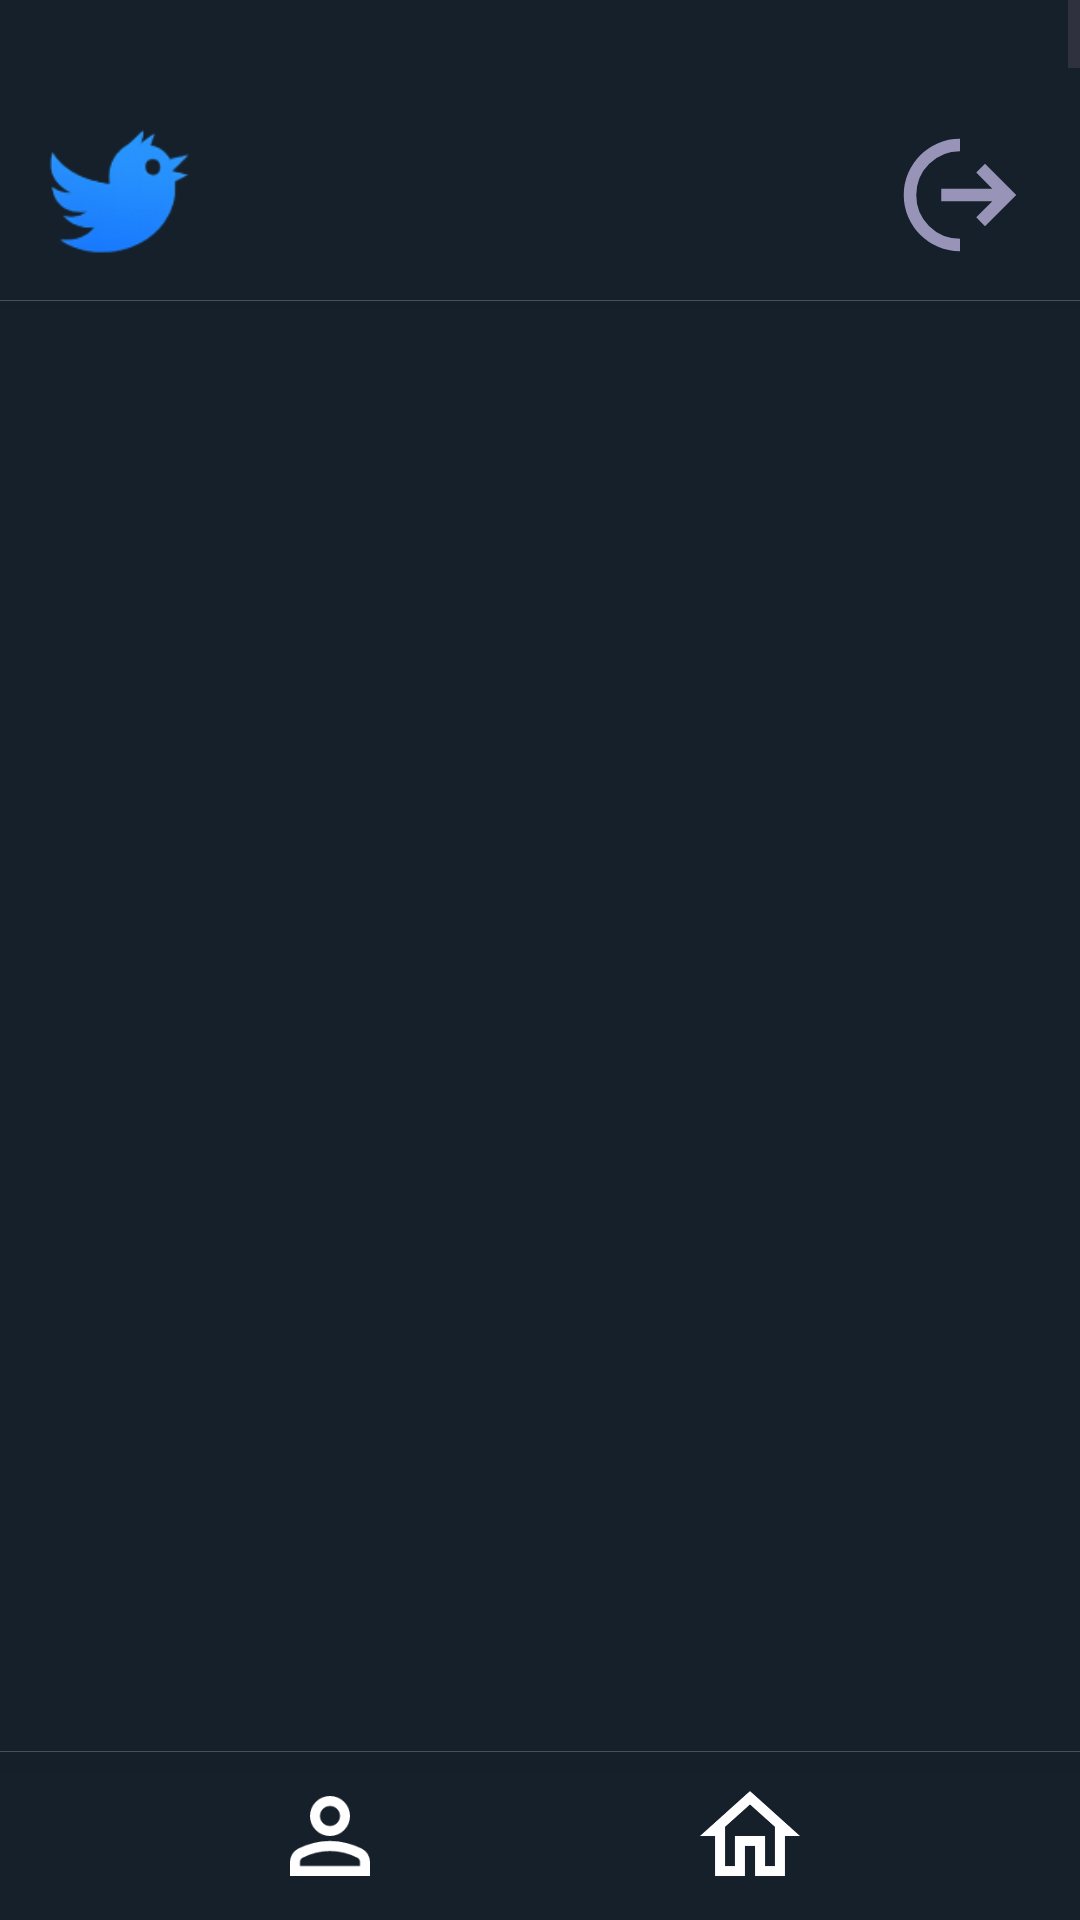

Screen size 1080 × 1920. Icon name, then its center in pixels as (x=x, y=y):
home: (x=750, y=1833)
person: (x=330, y=1836)
